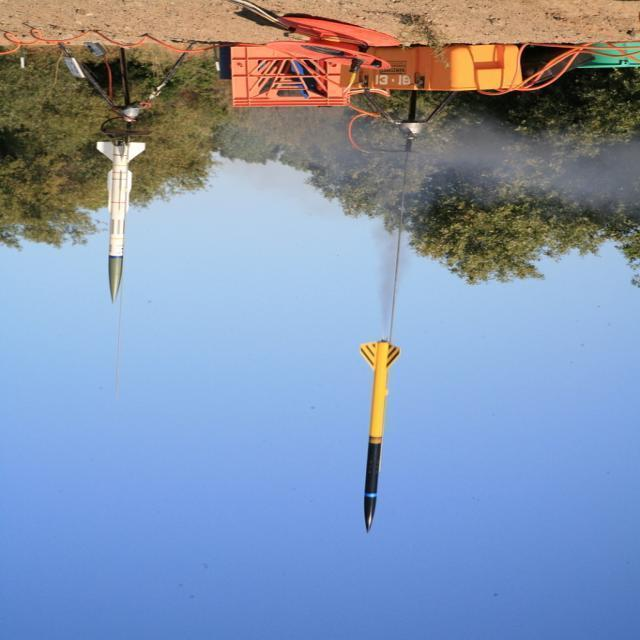missile: (351, 336, 413, 531), (83, 130, 153, 300)
